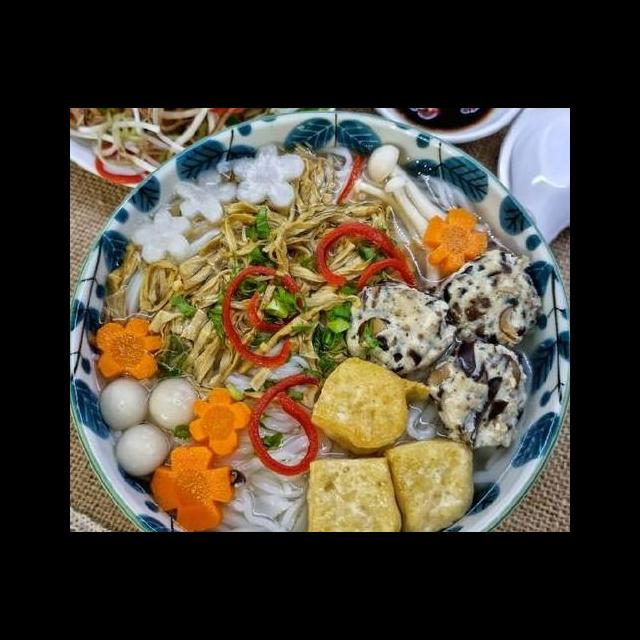bun: (204, 349, 334, 532)
bun moc: (97, 135, 570, 532)
dau hu: (307, 353, 437, 462), (380, 433, 477, 532), (301, 453, 408, 532)
vien moc: (424, 237, 549, 365), (421, 337, 540, 454), (343, 279, 462, 373)
